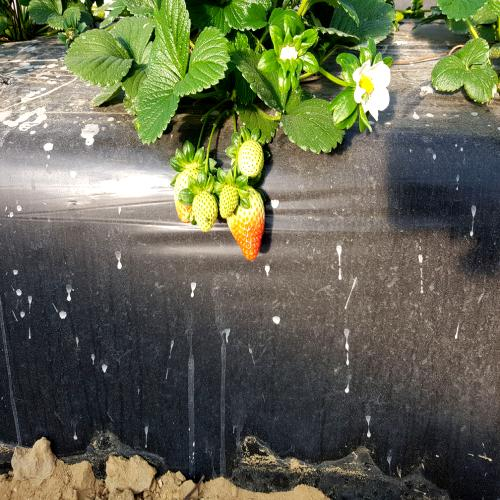partially-ripe: (220, 189, 269, 264)
